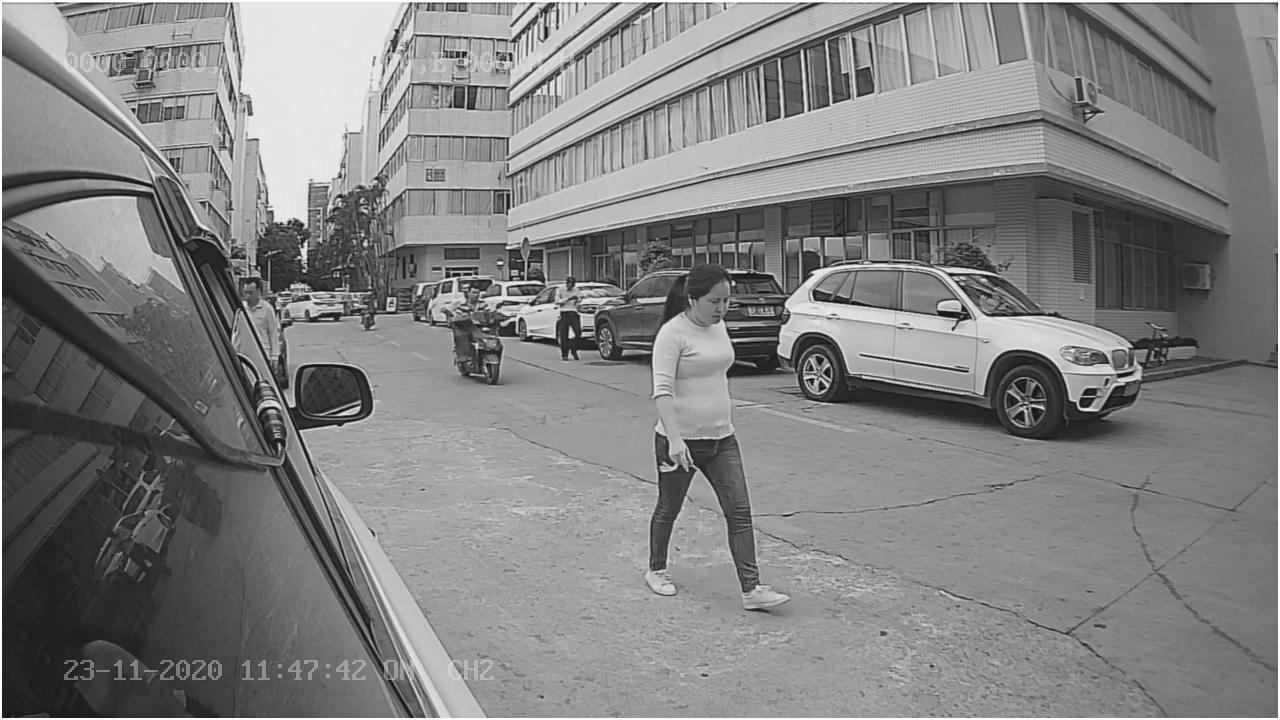person: (642, 259, 792, 614)
